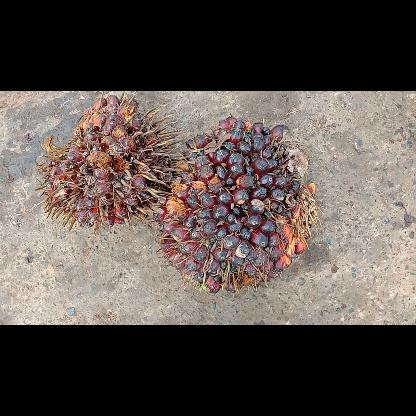Kurang masak: (152, 116, 318, 294)
TBS masak: (35, 91, 183, 231)
